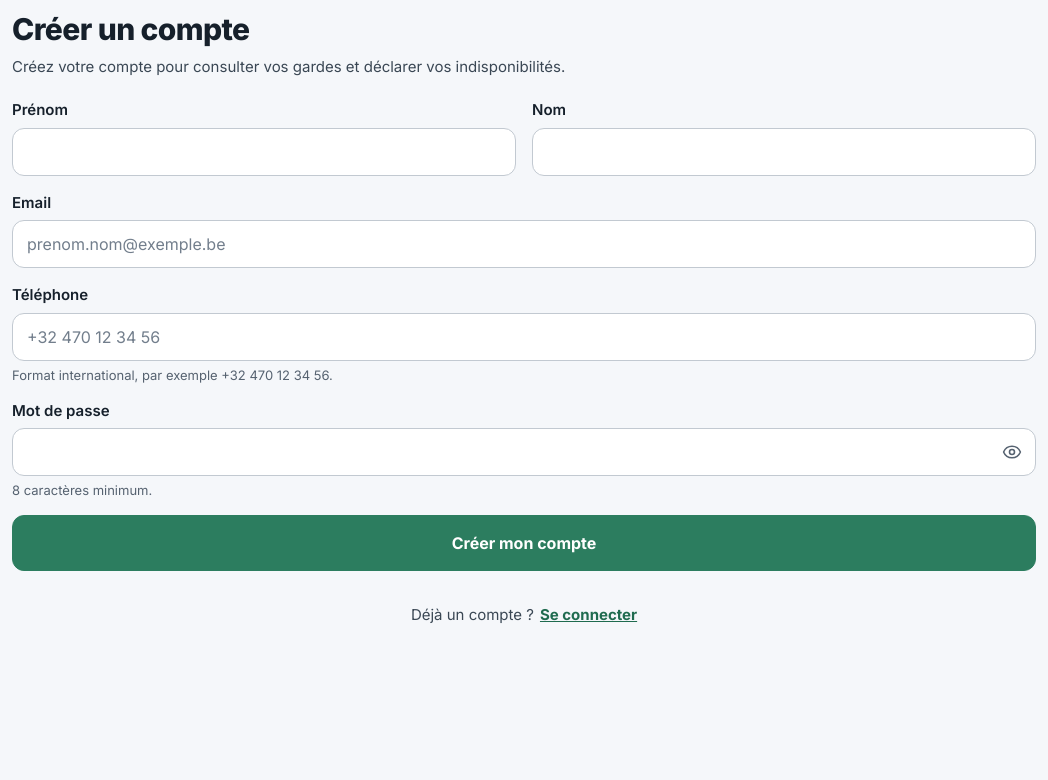
Test: RegisterPage (classic sign-up) › shows a clear message for a taken email
Type "Alice" into the field labelled "Prénom" at x=264, y=152, box [12,128,516,176]
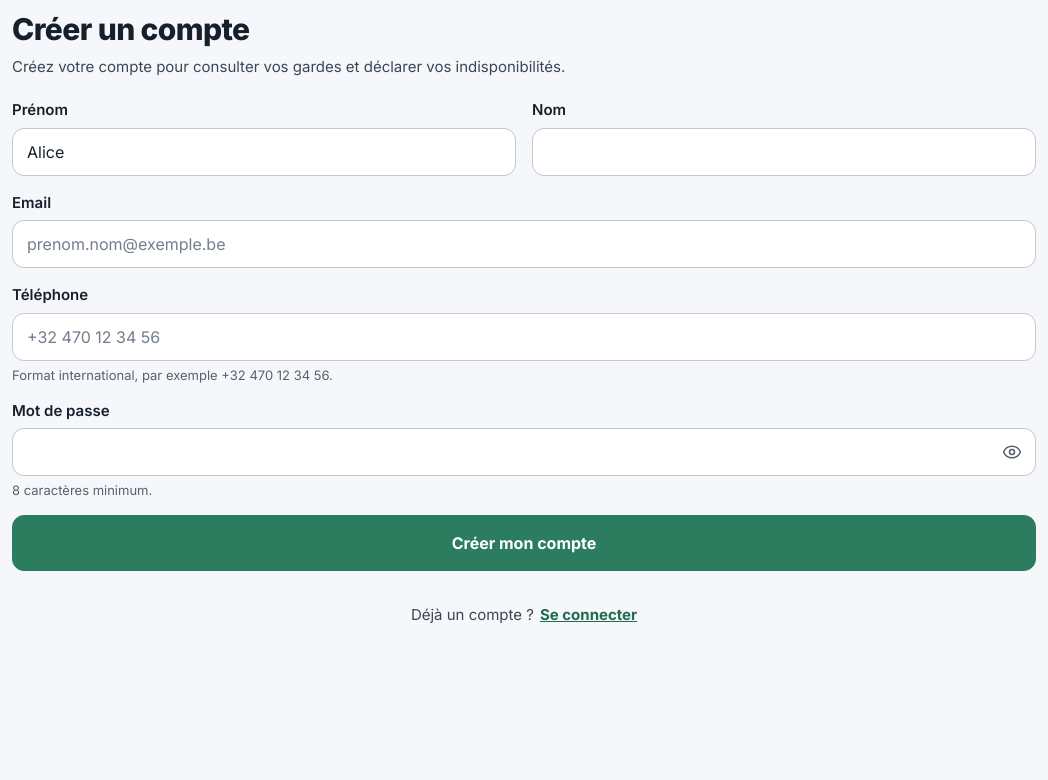
Type "Martin" into the field labelled "Nom" at x=784, y=152, box [532,128,1036,176]
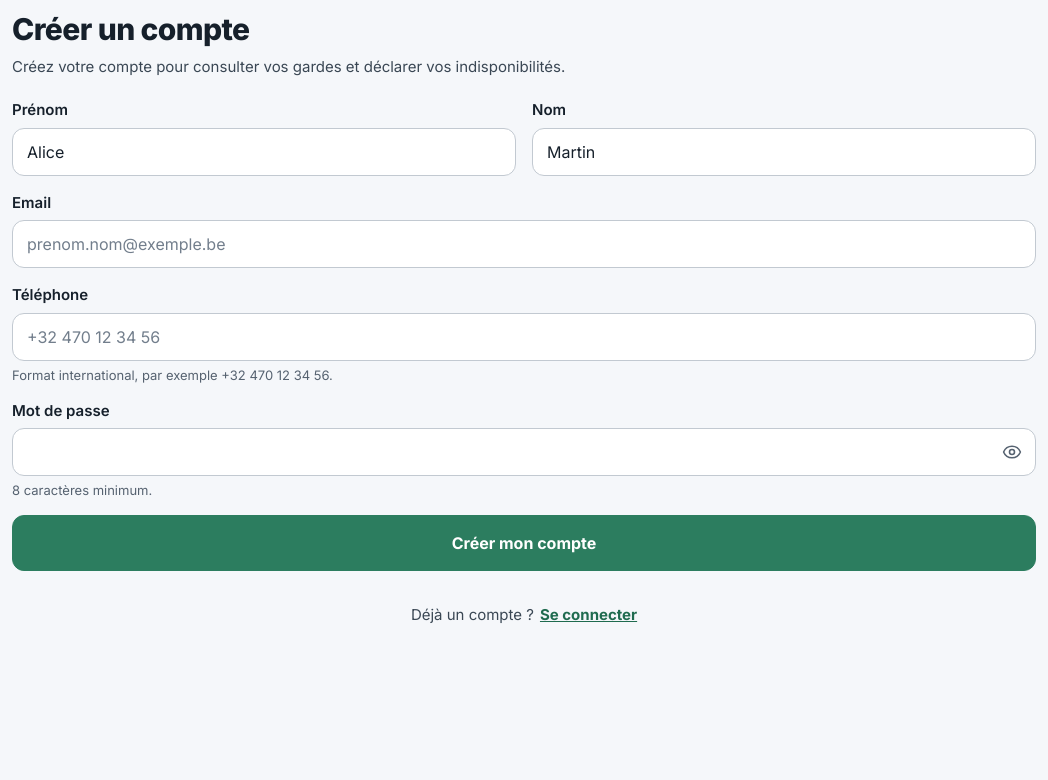
Type "alice@example.com" into the field labelled "Email" at x=524, y=244, box [12,220,1036,268]
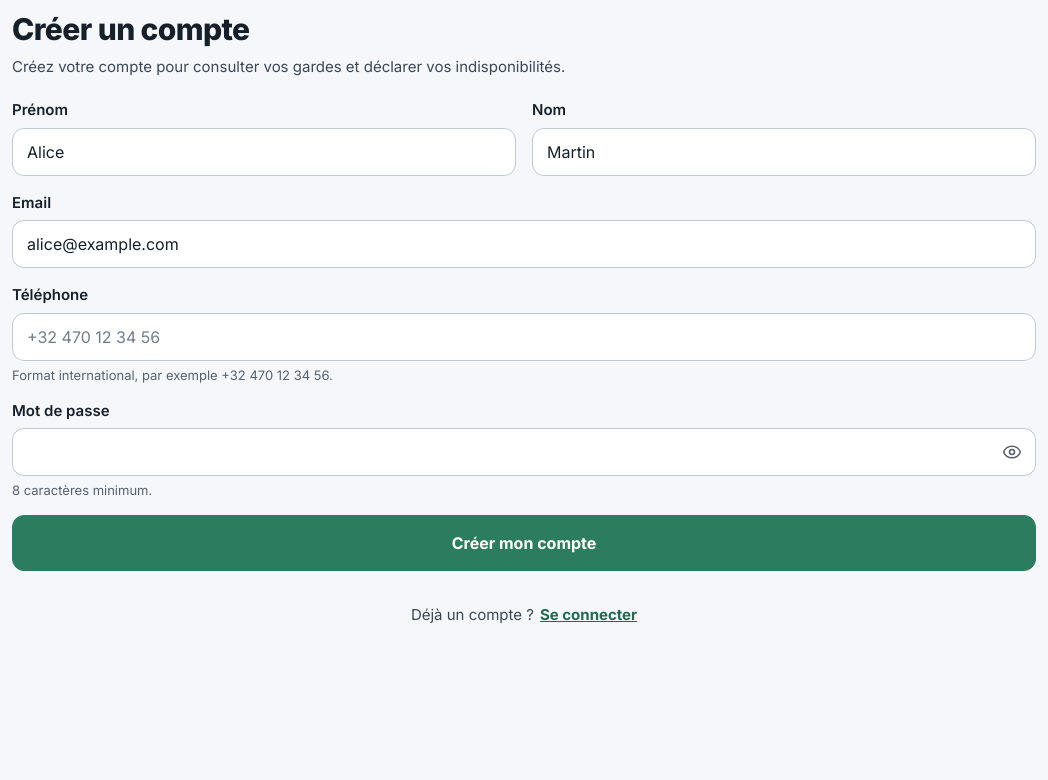
Type "0470 12 34 56" into the field labelled "Téléphone" at x=524, y=337, box [12,313,1036,361]
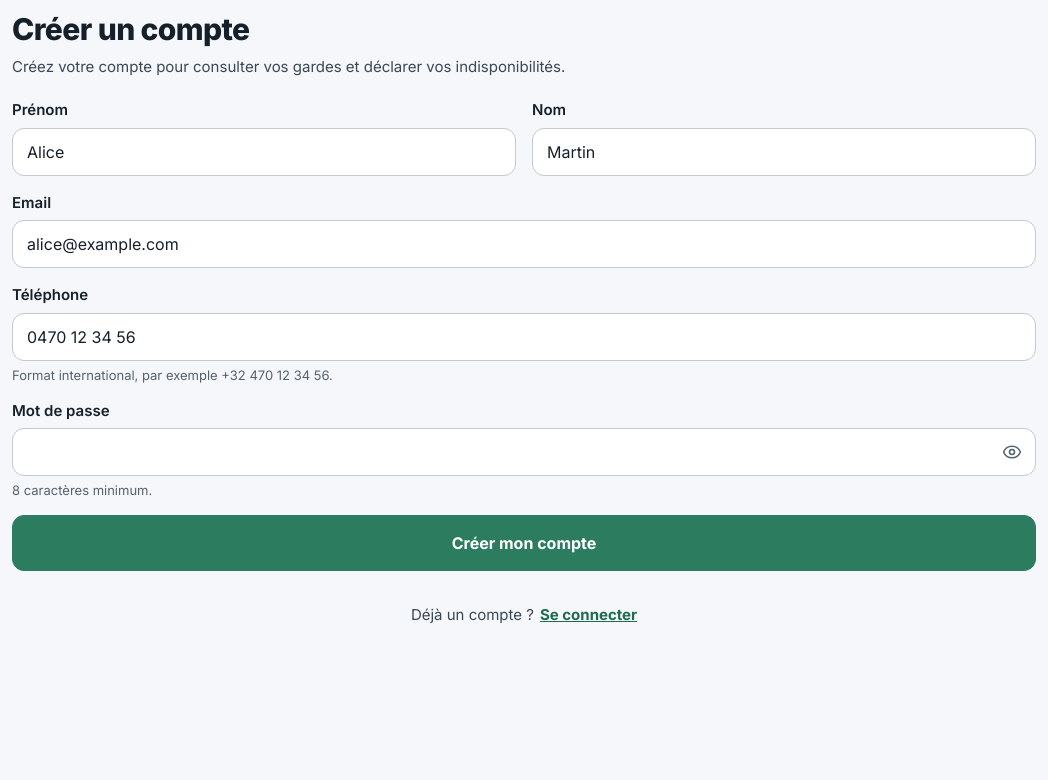
Type "correct-horse-battery" into the password field labelled "Mot de passe" at x=524, y=452, box [12,428,1036,476]
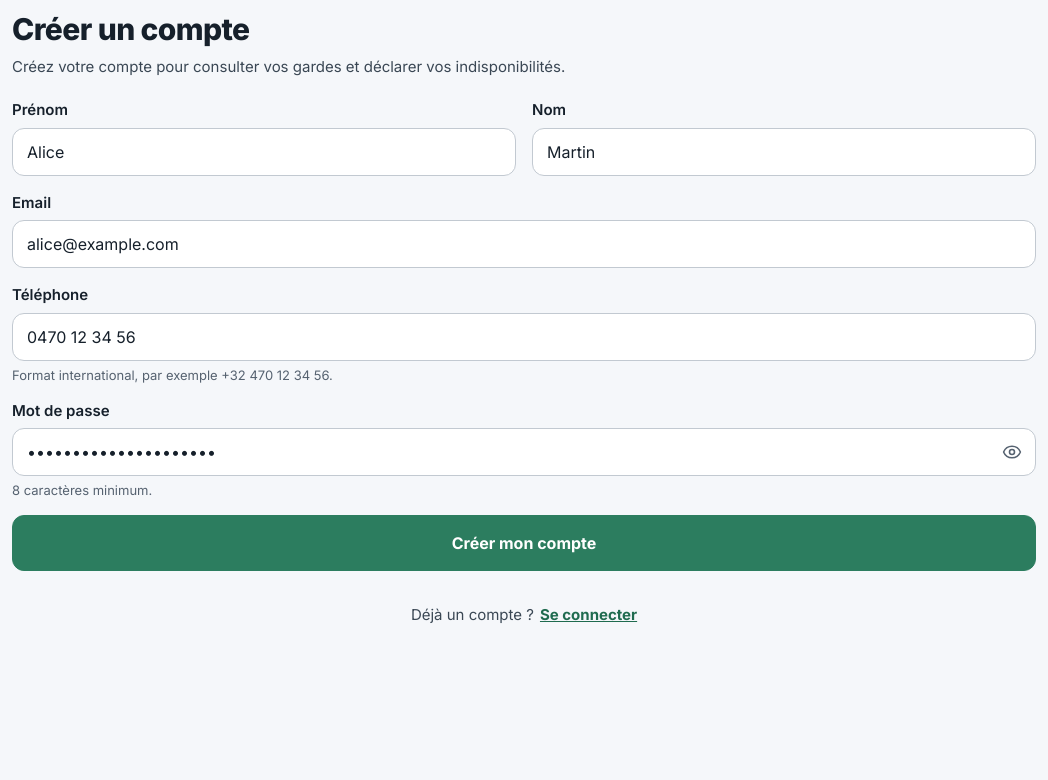
Click the button "Créer mon compte" at x=524, y=543, box [12,515,1036,571]
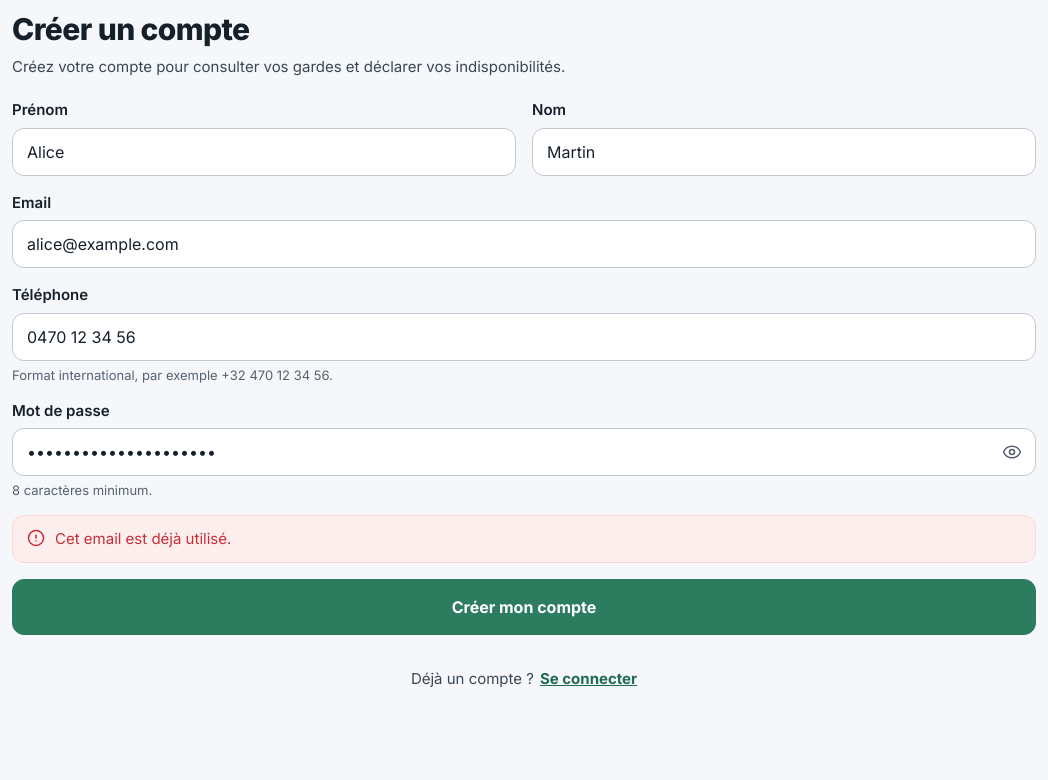
Check: the message reads "Cet email est déjà utilisé.", box [55,529,231,548]
